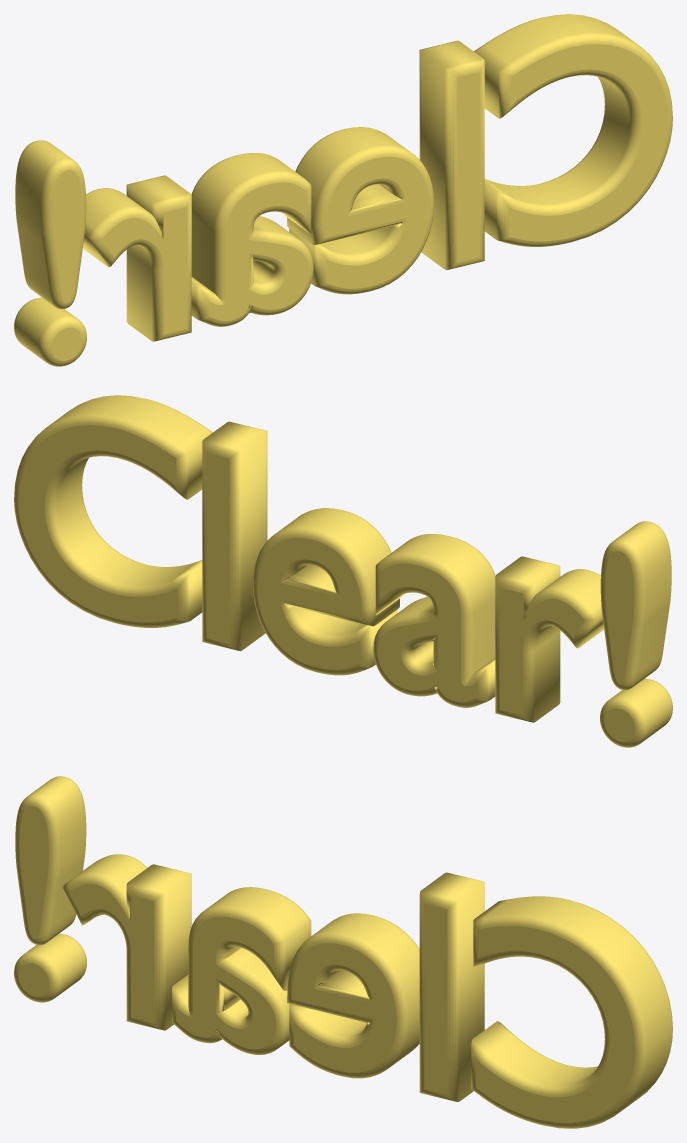
File: ClearText.obj
3 views of the same model, one above another, from view 1: azimuth 30°, elevation 25°; view 2: azimuth 150°, elevation 25°; view 3: azimuth 330°, elevation 25° (orthographic).
Visible parts, largest first — view 1: テキスト; view 2: テキスト; view 3: テキスト.
Boxes of the visible parts, x1=… form: テキスト: x1=14, y1=14, x2=672, y2=366; テキスト: x1=14, y1=395, x2=672, y2=747; テキスト: x1=14, y1=776, x2=672, y2=1128.
Bounding box in the file's own units: 2.44 × 0.7603 × 0.22.
Materials: 1 (1 with a texture image).
